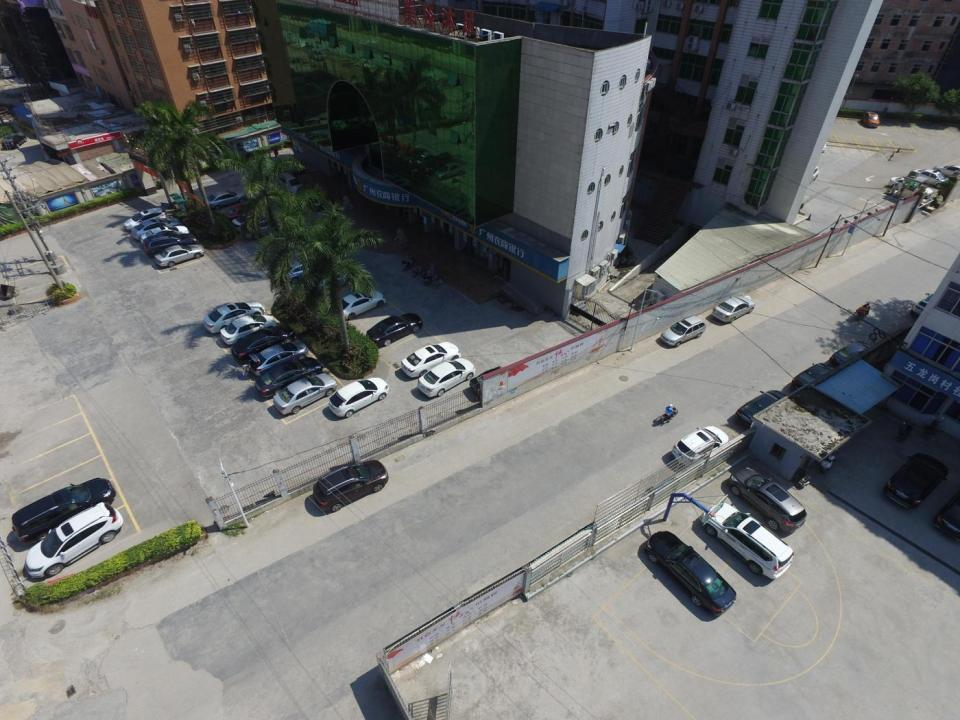car: (646, 529, 737, 616), (24, 502, 124, 577), (702, 501, 794, 579), (729, 467, 806, 531), (314, 458, 387, 512), (882, 452, 948, 509), (272, 371, 337, 413), (255, 359, 322, 399), (329, 376, 388, 419), (230, 327, 295, 364), (670, 425, 728, 464), (399, 342, 463, 377), (418, 358, 475, 397), (246, 341, 307, 377), (735, 390, 790, 428), (365, 312, 422, 348), (203, 301, 264, 333), (219, 314, 277, 344), (328, 289, 385, 317), (660, 314, 706, 347), (791, 362, 835, 392), (469, 366, 515, 394), (142, 234, 198, 256), (278, 255, 321, 283), (711, 294, 754, 322), (155, 243, 204, 267), (131, 217, 180, 240), (829, 340, 872, 366), (123, 207, 164, 233), (912, 291, 947, 317), (308, 267, 347, 290), (139, 226, 190, 243), (227, 207, 265, 229), (241, 219, 281, 239), (204, 190, 247, 208), (912, 169, 952, 187), (889, 177, 931, 194), (223, 203, 258, 222), (794, 165, 818, 183), (1, 134, 26, 149), (810, 132, 828, 152), (861, 110, 879, 129), (936, 165, 960, 178)
van: (12, 477, 116, 546), (278, 172, 304, 194), (0, 64, 14, 78)
